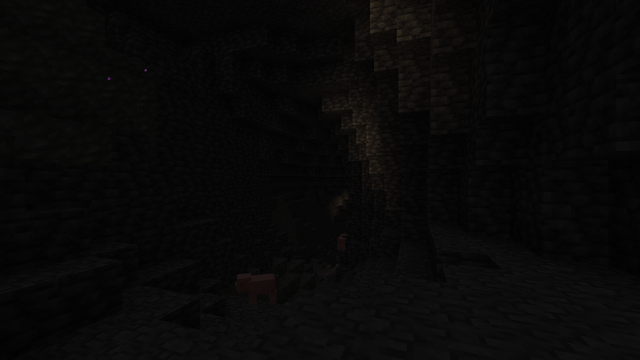cochons: (244, 271, 277, 307), (335, 235, 347, 249)
